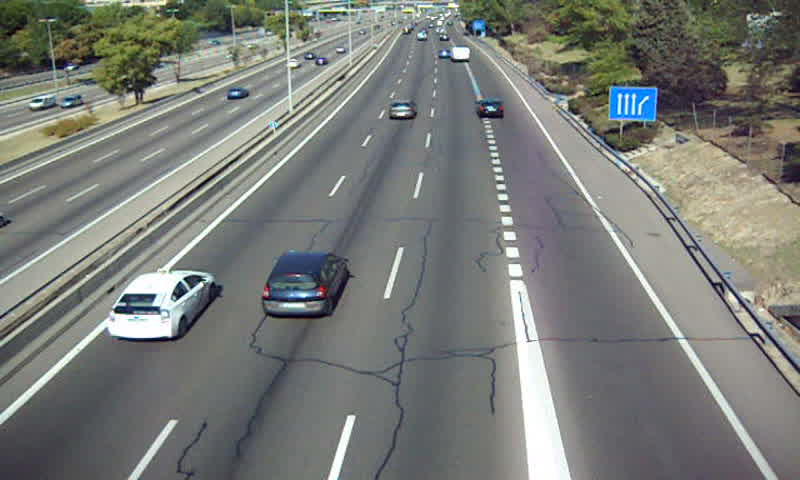car: (106, 271, 217, 340), (264, 252, 347, 317), (388, 100, 416, 122), (475, 99, 505, 118)
van: (449, 47, 471, 61)
